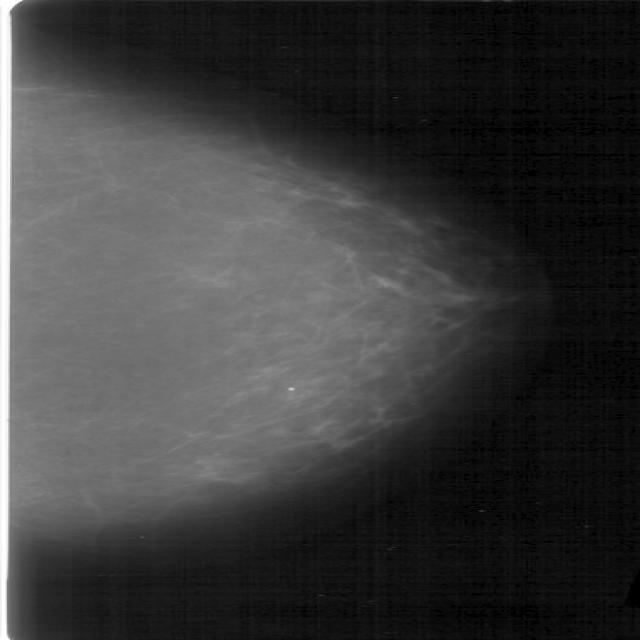tumour: (303, 420, 352, 451)
